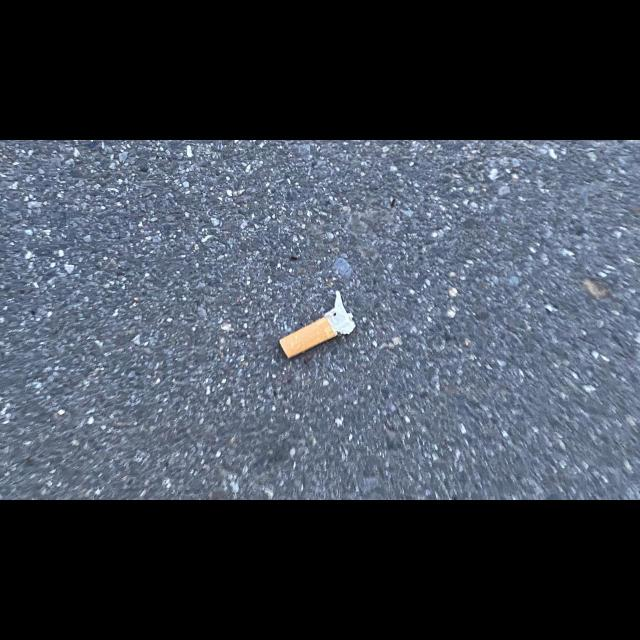cigarette: (278, 290, 356, 359)
